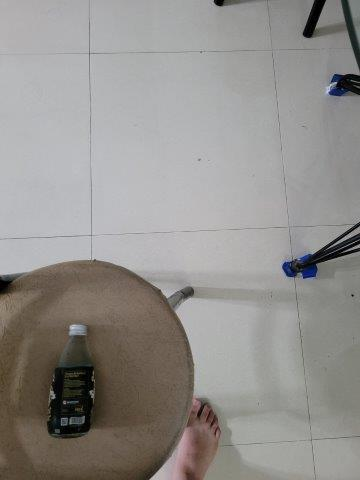botolkaca: (45, 324, 95, 437)
